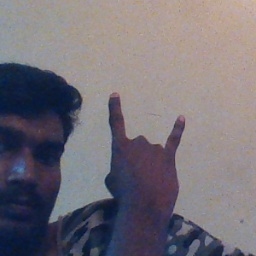V: (100, 89, 194, 218)
